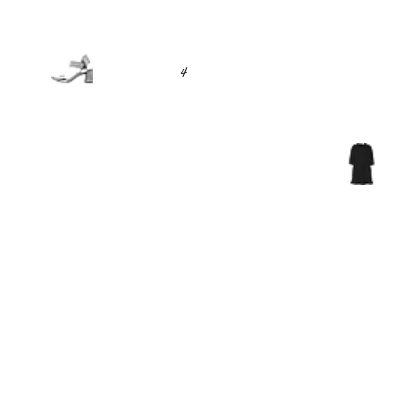4: (177, 65, 191, 79)
Dress: (340, 143, 382, 185)
Sandal: (51, 47, 93, 89)
